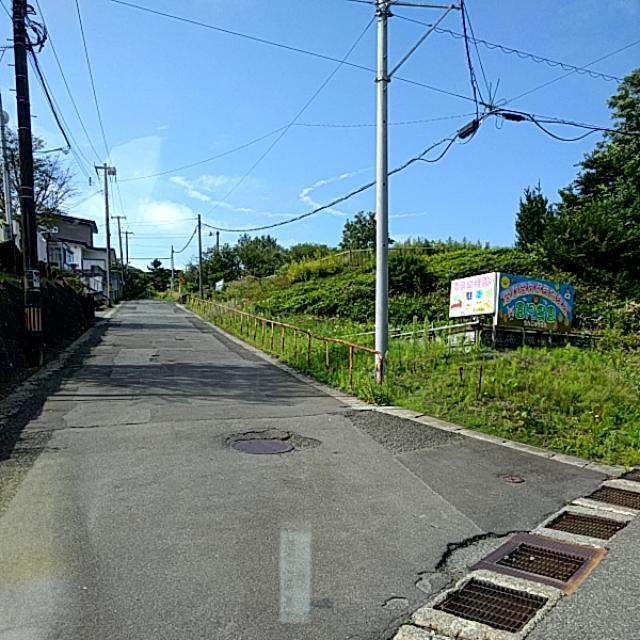pothole: (60, 399, 156, 435)
